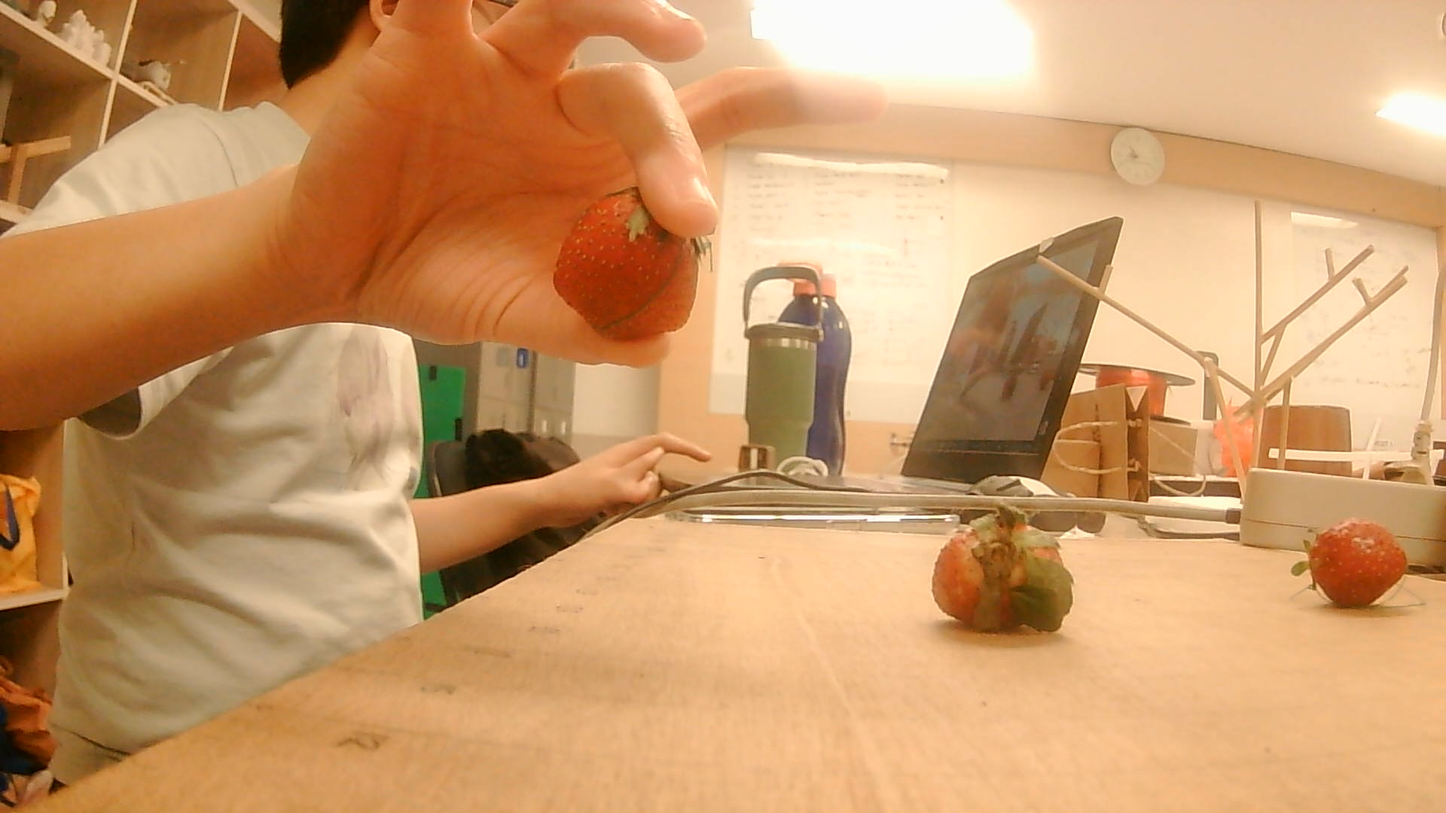strawberry: (546, 177, 726, 346), (929, 501, 1071, 635), (1301, 510, 1417, 617)
